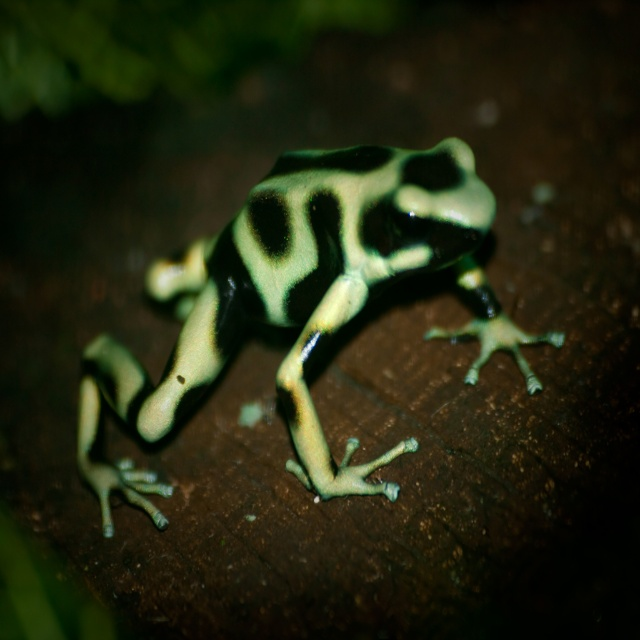Frog: (77, 137, 568, 537)
